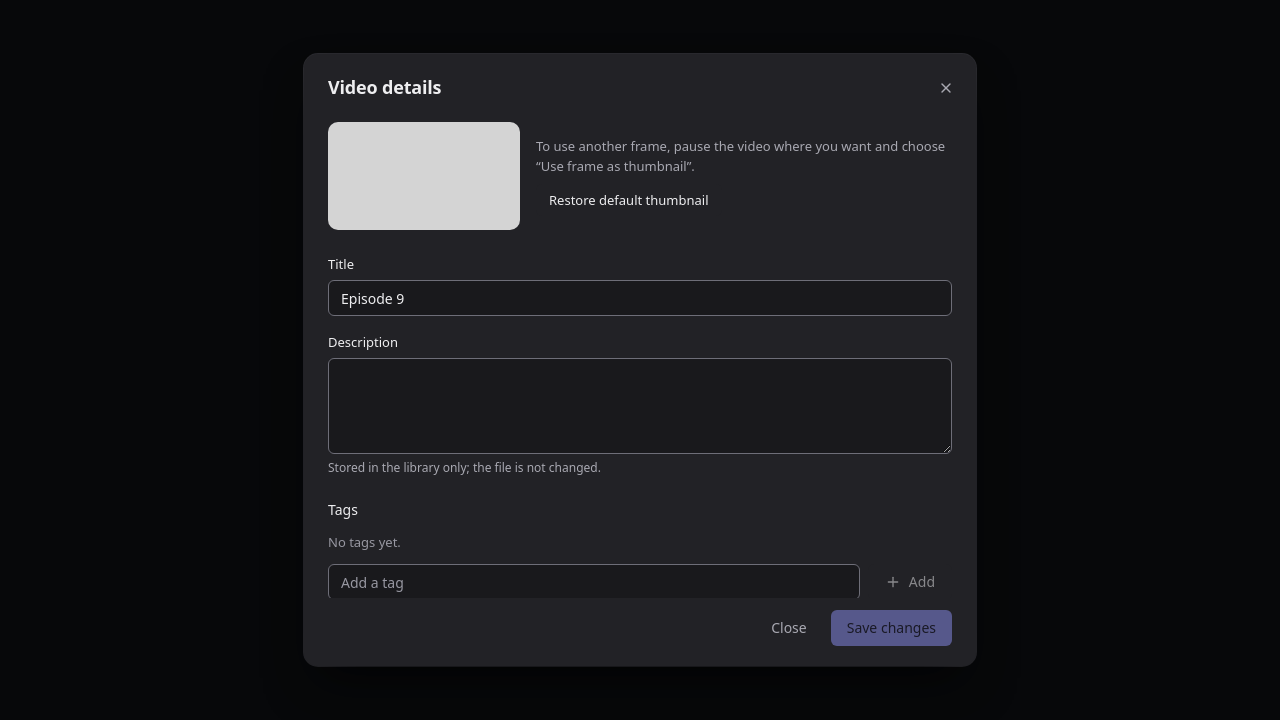
Test: video details dialog › restores the automatic thumbnail
The width and height of the screenshot is (1280, 720).
Click the button "Restore default thumbnail": (629, 200) [536,184,722,216]
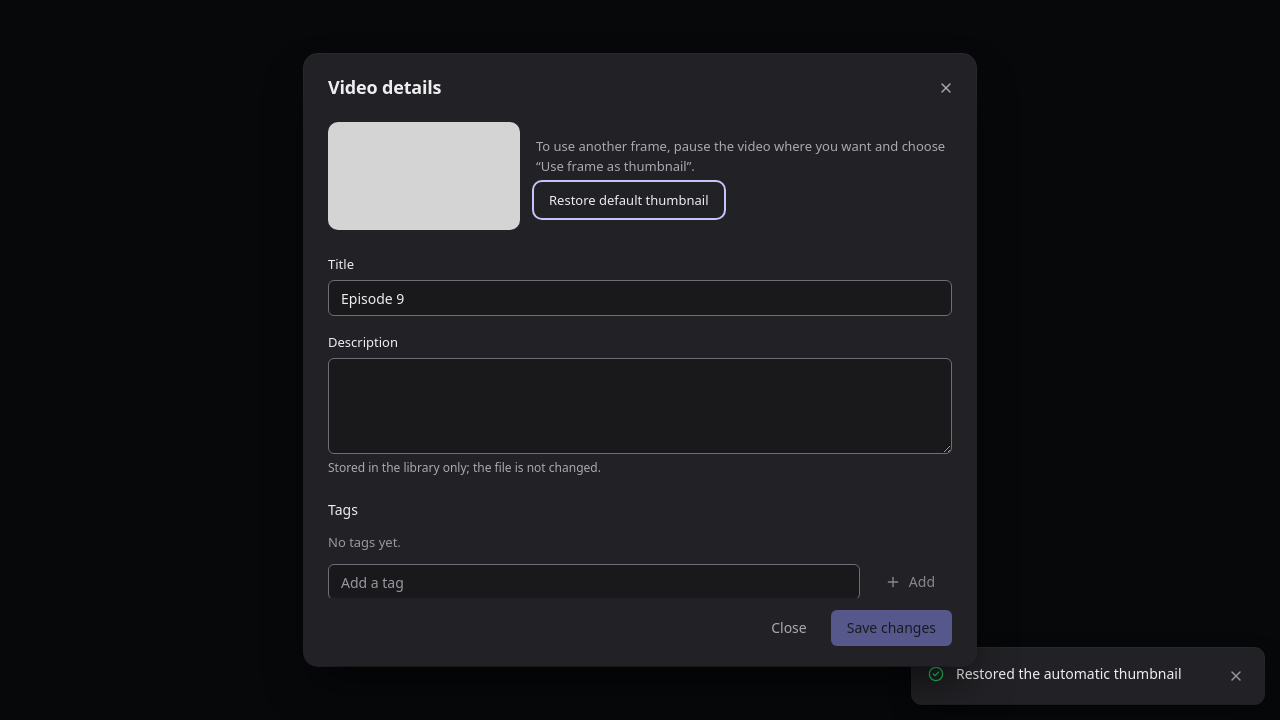
Expected: the text "Restored the automatic thumbnail" is shown, [956,664,1212,684]
